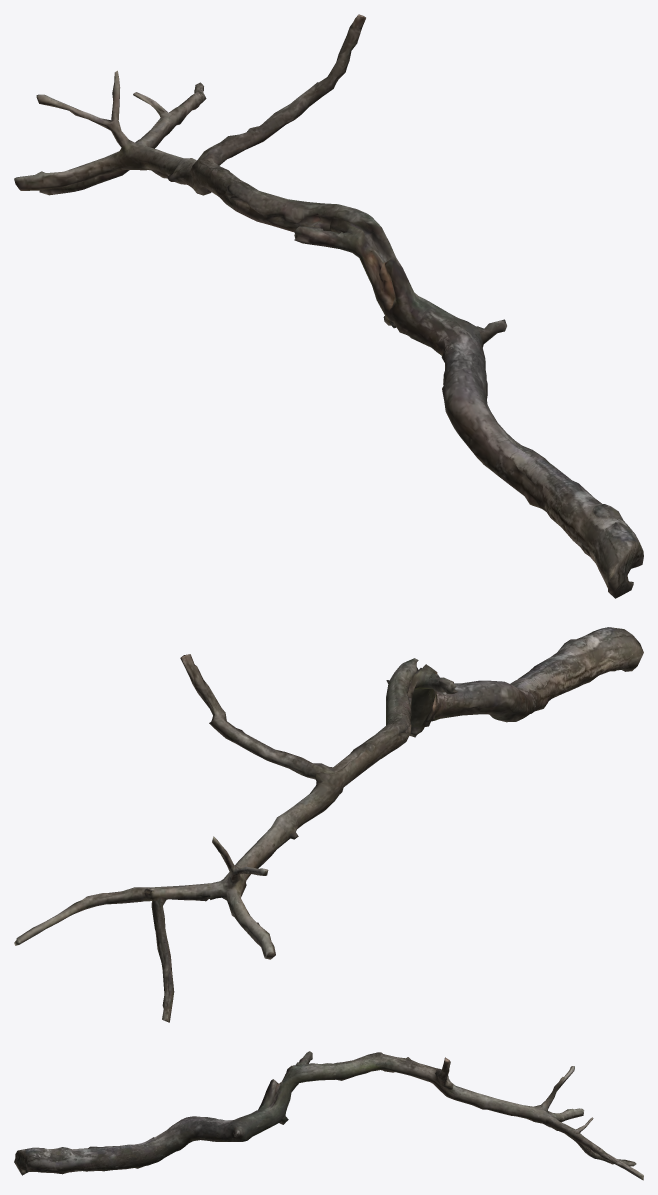
Rendered from branch_a.glb.
The picture shows the model from 3 angles, top to bottom: view 1: azimuth 30°, elevation 25°; view 2: azimuth 150°, elevation 25°; view 3: azimuth 270°, elevation 25°; orthographic projection. The views are drawn at different scales.
Parts seen in each view (by area): view 1: Forest_branch_a; view 2: Forest_branch_a; view 3: Forest_branch_a.
Part boxes in pixels (x1,y1,x2,y2): Forest_branch_a: (14,14,643,598); Forest_branch_a: (14,627,643,1022); Forest_branch_a: (14,1051,643,1180).
Size of the model in its own units: 0.3228 by 0.3407 by 1.3.
Materials: 1 (1 with a texture image).
